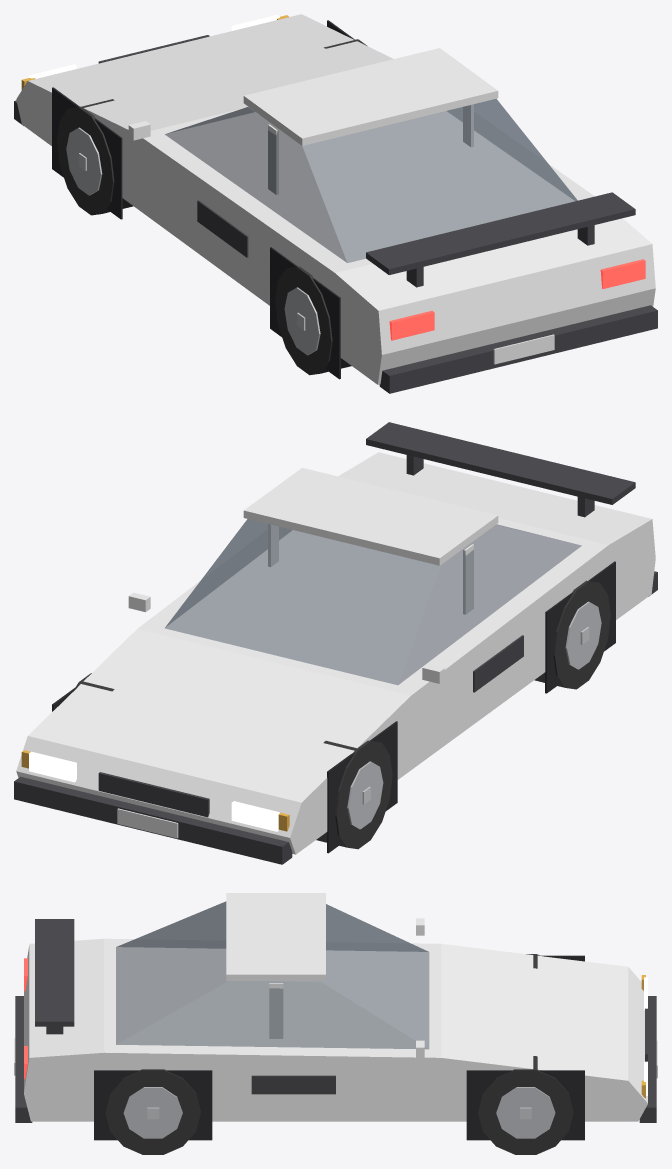
The model's file is sports.glb.
The picture shows the model from 3 angles, top to bottom: view 1: azimuth 30°, elevation 25°; view 2: azimuth 150°, elevation 25°; view 3: azimuth 270°, elevation 25°; orthographic projection. The views are drawn at different scales.
Parts seen in each view (by area): view 1: body, cabin, roof, spoiler, bumper_rear, wheel_lf, wheel_lb, arch_lf, arch_lb, intake-1, plate_rear, taillight-1 (+2 smaller); view 2: body, cabin, roof, spoiler, bumper_front, wheel_lf, wheel_lb, grille, arch_lf, arch_lb, intake-1, plate_front (+3 smaller); view 3: body, cabin, roof, wheel_rf, wheel_rb, spoiler, arch_rf, arch_rb, intake1, bumper_rear, bumper_front, pillar_b1.
Part boxes in pixels (x1=…): body: x1=16, y1=14, x2=655, y2=384; cabin: x1=165, y1=98, x2=577, y2=262; roof: x1=243, y1=48, x2=498, y2=145; spoiler: x1=366, y1=192, x2=635, y2=274; bumper_rear: x1=379, y1=305, x2=657, y2=393; wheel_lf: x1=57, y1=99, x2=133, y2=215; wheel_lb: x1=275, y1=266, x2=351, y2=375; arch_lf: x1=52, y1=87, x2=122, y2=219; arch_lb: x1=270, y1=247, x2=340, y2=379; intake-1: x1=197, y1=200, x2=248, y2=257; plate_rear: x1=493, y1=334, x2=554, y2=364; taillight-1: x1=389, y1=310, x2=434, y2=340; body: x1=16, y1=452, x2=655, y2=854; cabin: x1=165, y1=519, x2=581, y2=684; roof: x1=243, y1=467, x2=498, y2=565; spoiler: x1=366, y1=422, x2=635, y2=504; bumper_front: x1=14, y1=776, x2=292, y2=864; wheel_lf: x1=316, y1=740, x2=392, y2=849; wheel_lb: x1=534, y1=580, x2=610, y2=689; grille: x1=98, y1=772, x2=209, y2=817; arch_lf: x1=327, y1=721, x2=397, y2=853; arch_lb: x1=545, y1=561, x2=615, y2=693; intake-1: x1=473, y1=635, x2=523, y2=692; plate_front: x1=117, y1=808, x2=178, y2=838; body: x1=24, y1=938, x2=647, y2=1121; cabin: x1=116, y1=901, x2=429, y2=1049; roof: x1=226, y1=893, x2=325, y2=980; wheel_rf: x1=478, y1=1056, x2=573, y2=1154; wheel_rb: x1=105, y1=1069, x2=200, y2=1154; spoiler: x1=35, y1=919, x2=74, y2=1026; arch_rf: x1=466, y1=1070, x2=584, y2=1140; arch_rb: x1=94, y1=1070, x2=212, y2=1140; intake1: x1=251, y1=1075, x2=335, y2=1094; bumper_rear: x1=15, y1=996, x2=32, y2=1122; bumper_front: x1=639, y1=996, x2=656, y2=1122; pillar_b1: x1=269, y1=983, x2=283, y2=1038.
Size of the model in its own units: 2.18 by 1.28 by 4.58.
